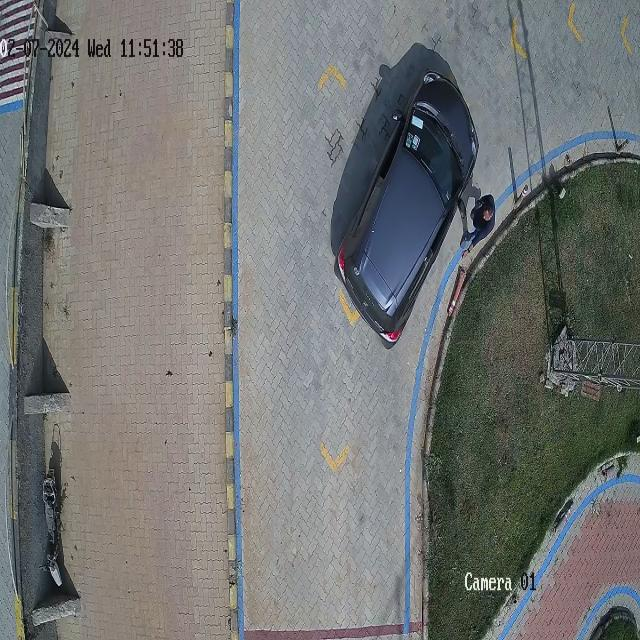car: (336, 69, 480, 353)
